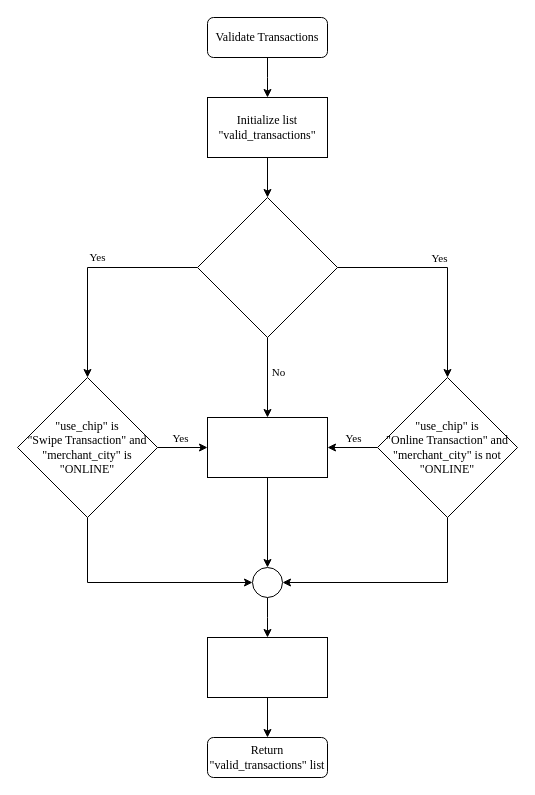
The diagram is 535 pixels wide and 795 high, and some of its shapes have lost their labels. The shapes that lost their labels are listed below. From the top down, each one's centre as x and y in pixels, then its label:
pixel 267 267: "use_chip" is "Swipe Transaction" or "Online Transaction"
pixel 267 447: Skip transaction
pixel 267 667: Append "use_chip" to "valid_transactions"
